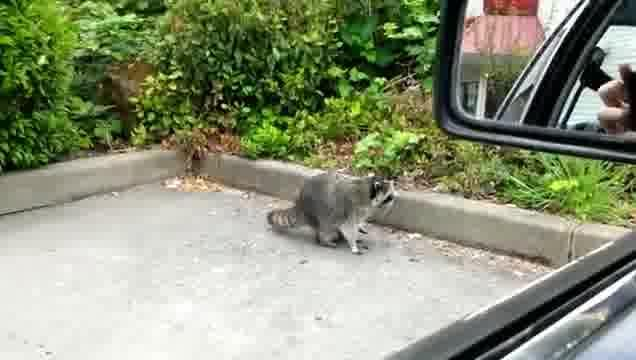raccoon: (266, 170, 398, 256)
